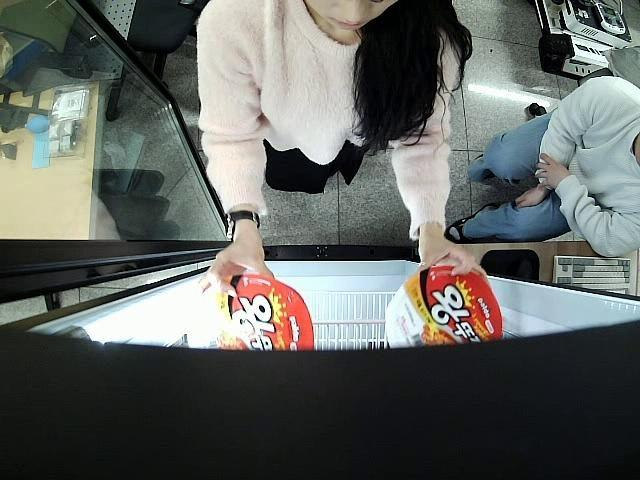10_wangTtukkeong: (186, 276, 312, 355), (386, 268, 502, 348)
